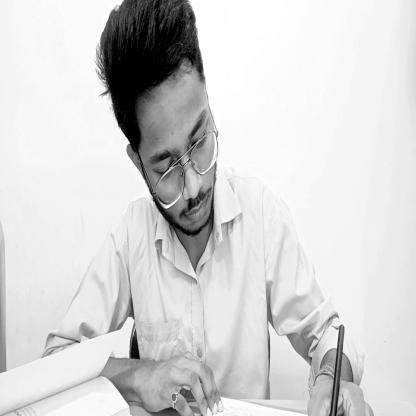Distracted: (99, 9, 221, 245)
